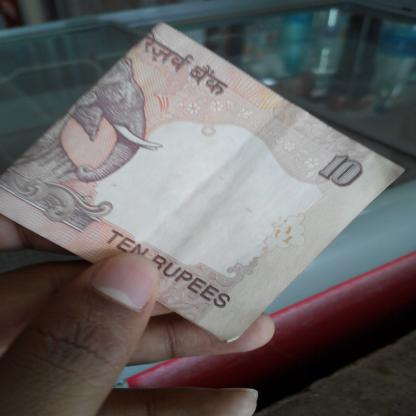Old10Back: (0, 21, 405, 344)
